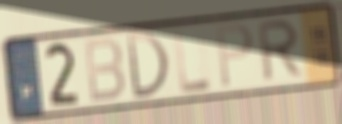2: (44, 41, 80, 108)
B: (82, 35, 127, 105)
D: (124, 30, 172, 101)
L: (172, 26, 215, 97)
P: (214, 21, 255, 91)
R: (257, 17, 307, 86)
